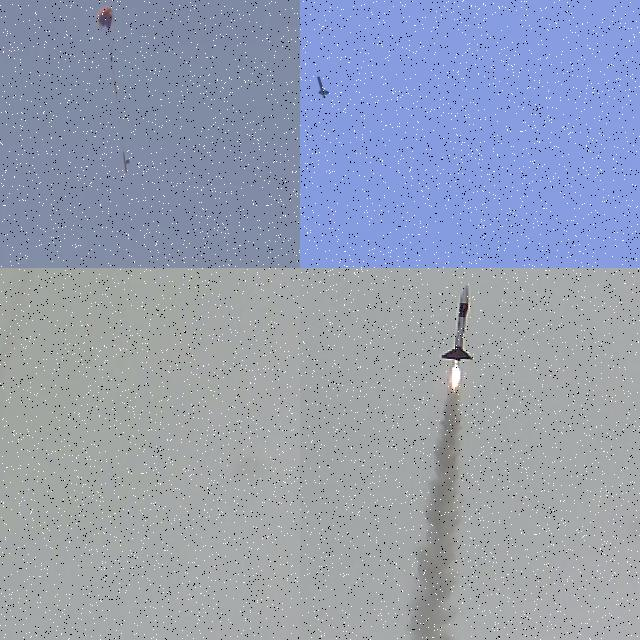Rocket: (440, 283, 474, 362), (315, 74, 331, 98)
